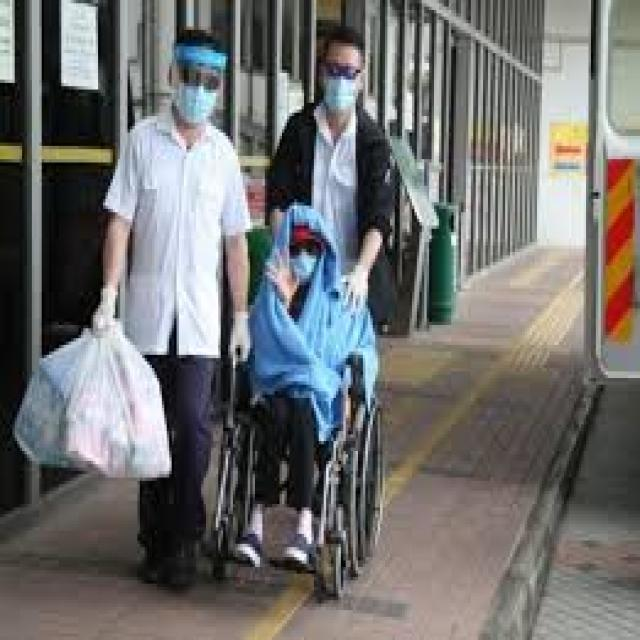wheelchairs: (206, 268, 378, 597)
